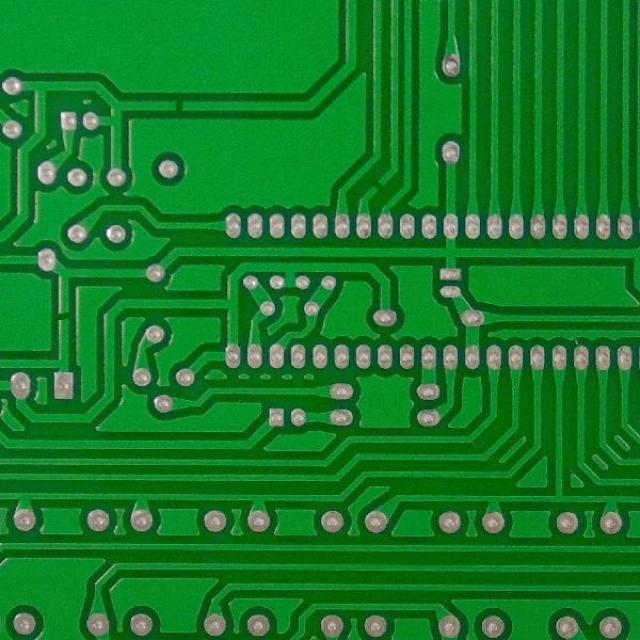Open_Circuit: (165, 93, 193, 118), (366, 170, 389, 200), (50, 303, 75, 328)
